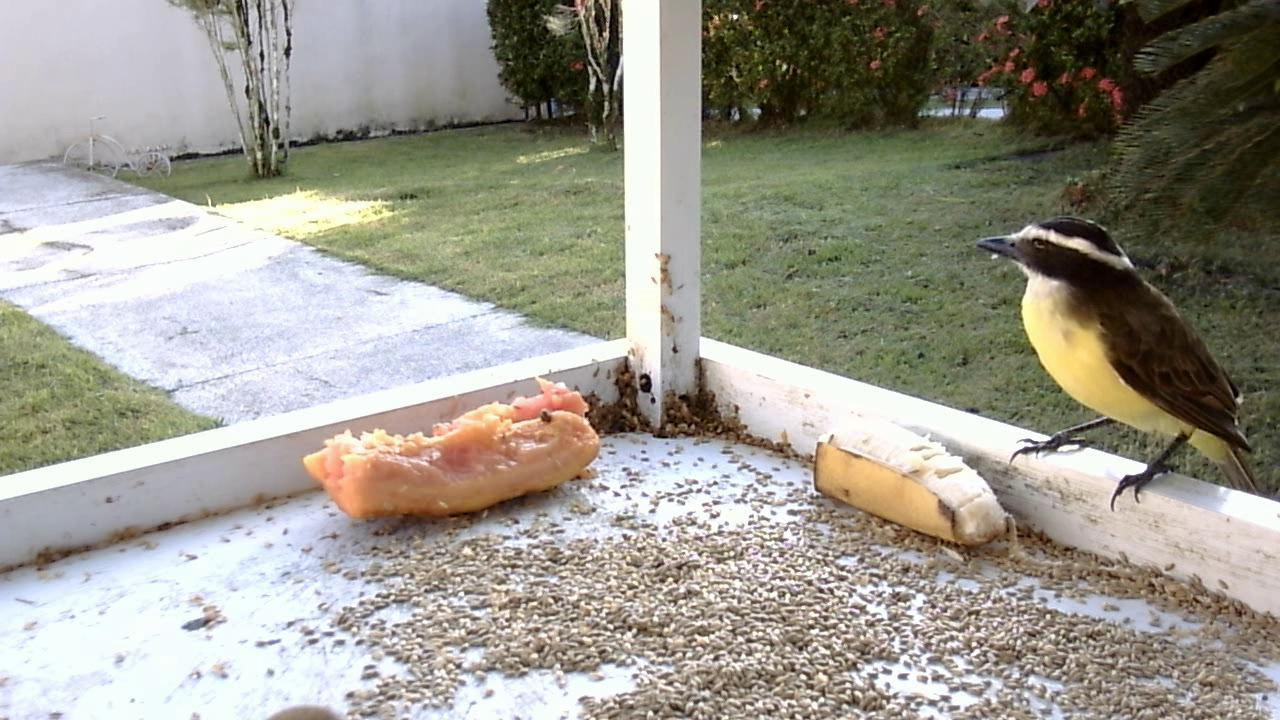bem_te_vi: (964, 204, 1257, 534)
